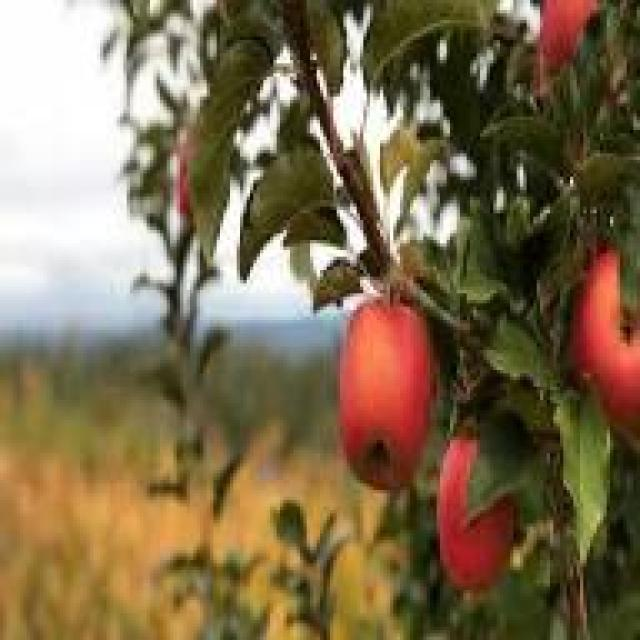apple: (327, 286, 433, 496), (423, 433, 527, 590), (570, 240, 640, 403)
